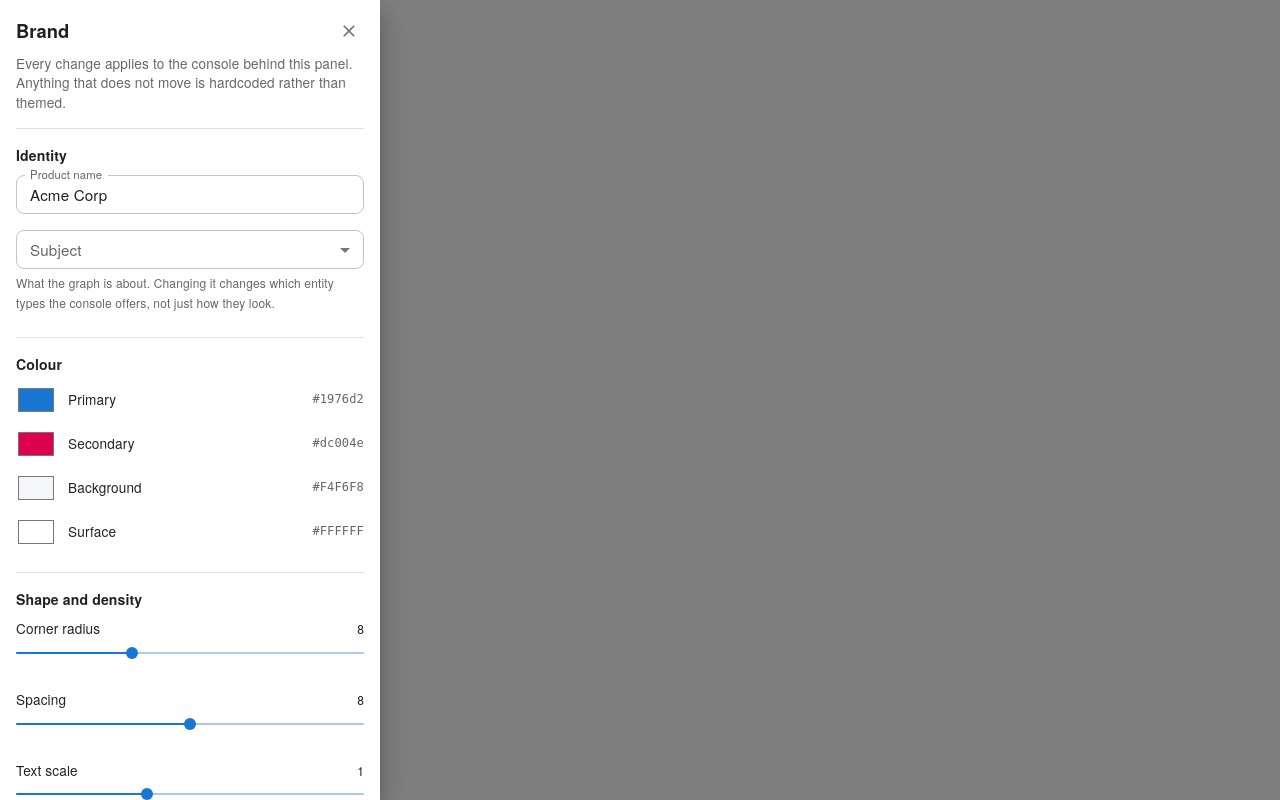
ThemeEditor › offers the subjects the deployment declares
Click the dropdown named "Subject".
click(190, 250)  # box [16,230,364,269]
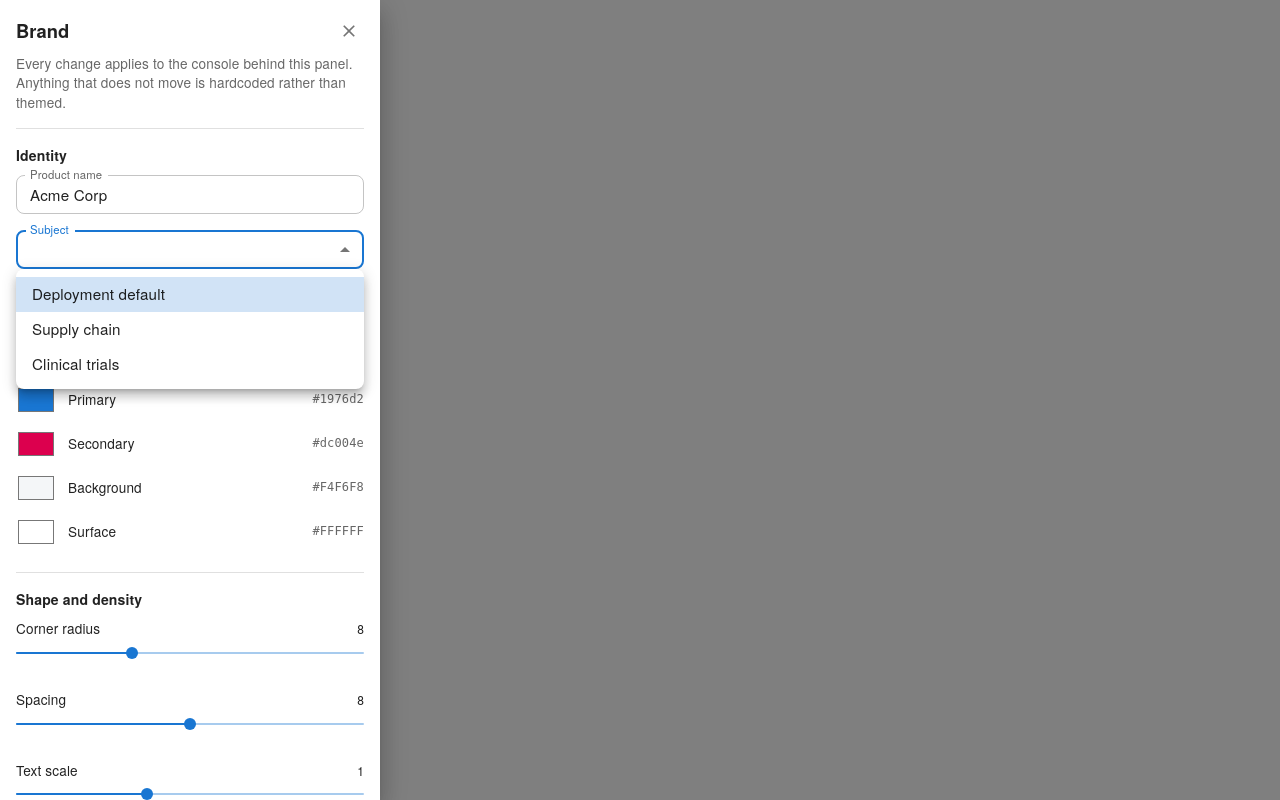
Expected: the option "Clinical trials" is shown, [32,353,120,374]
